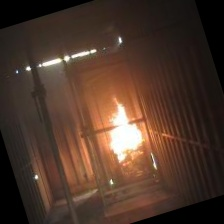fire: (87, 81, 162, 166)
